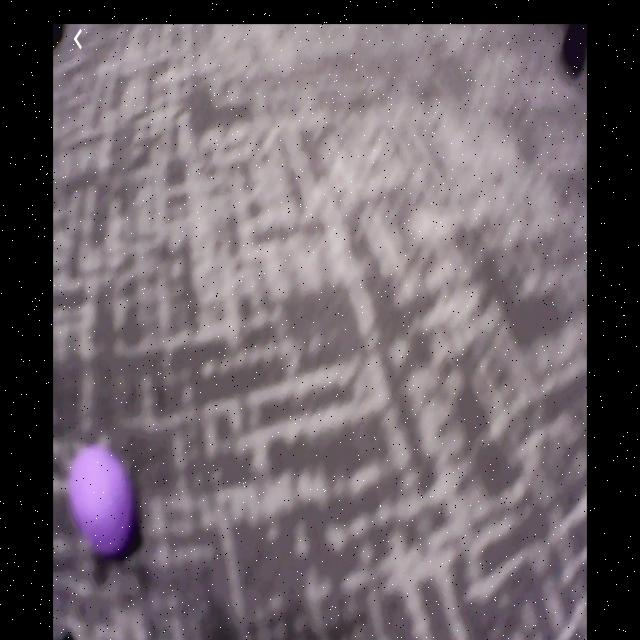ball: (68, 451, 133, 552)
